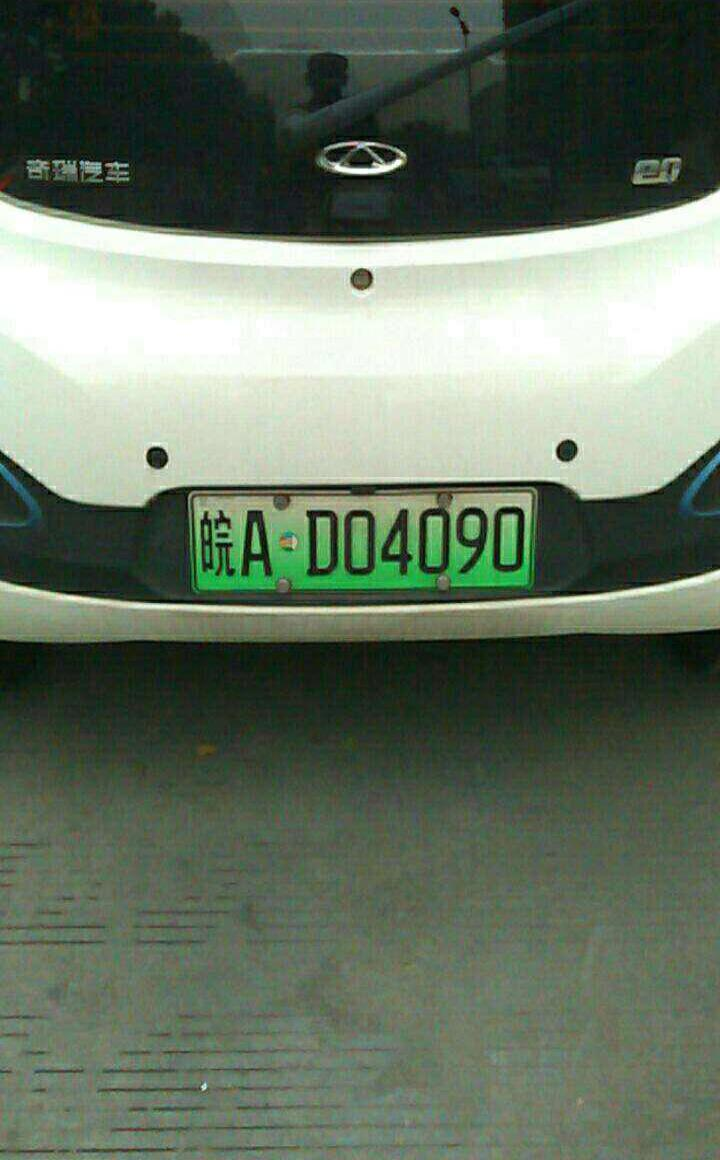car_id: (195, 489, 537, 593)
